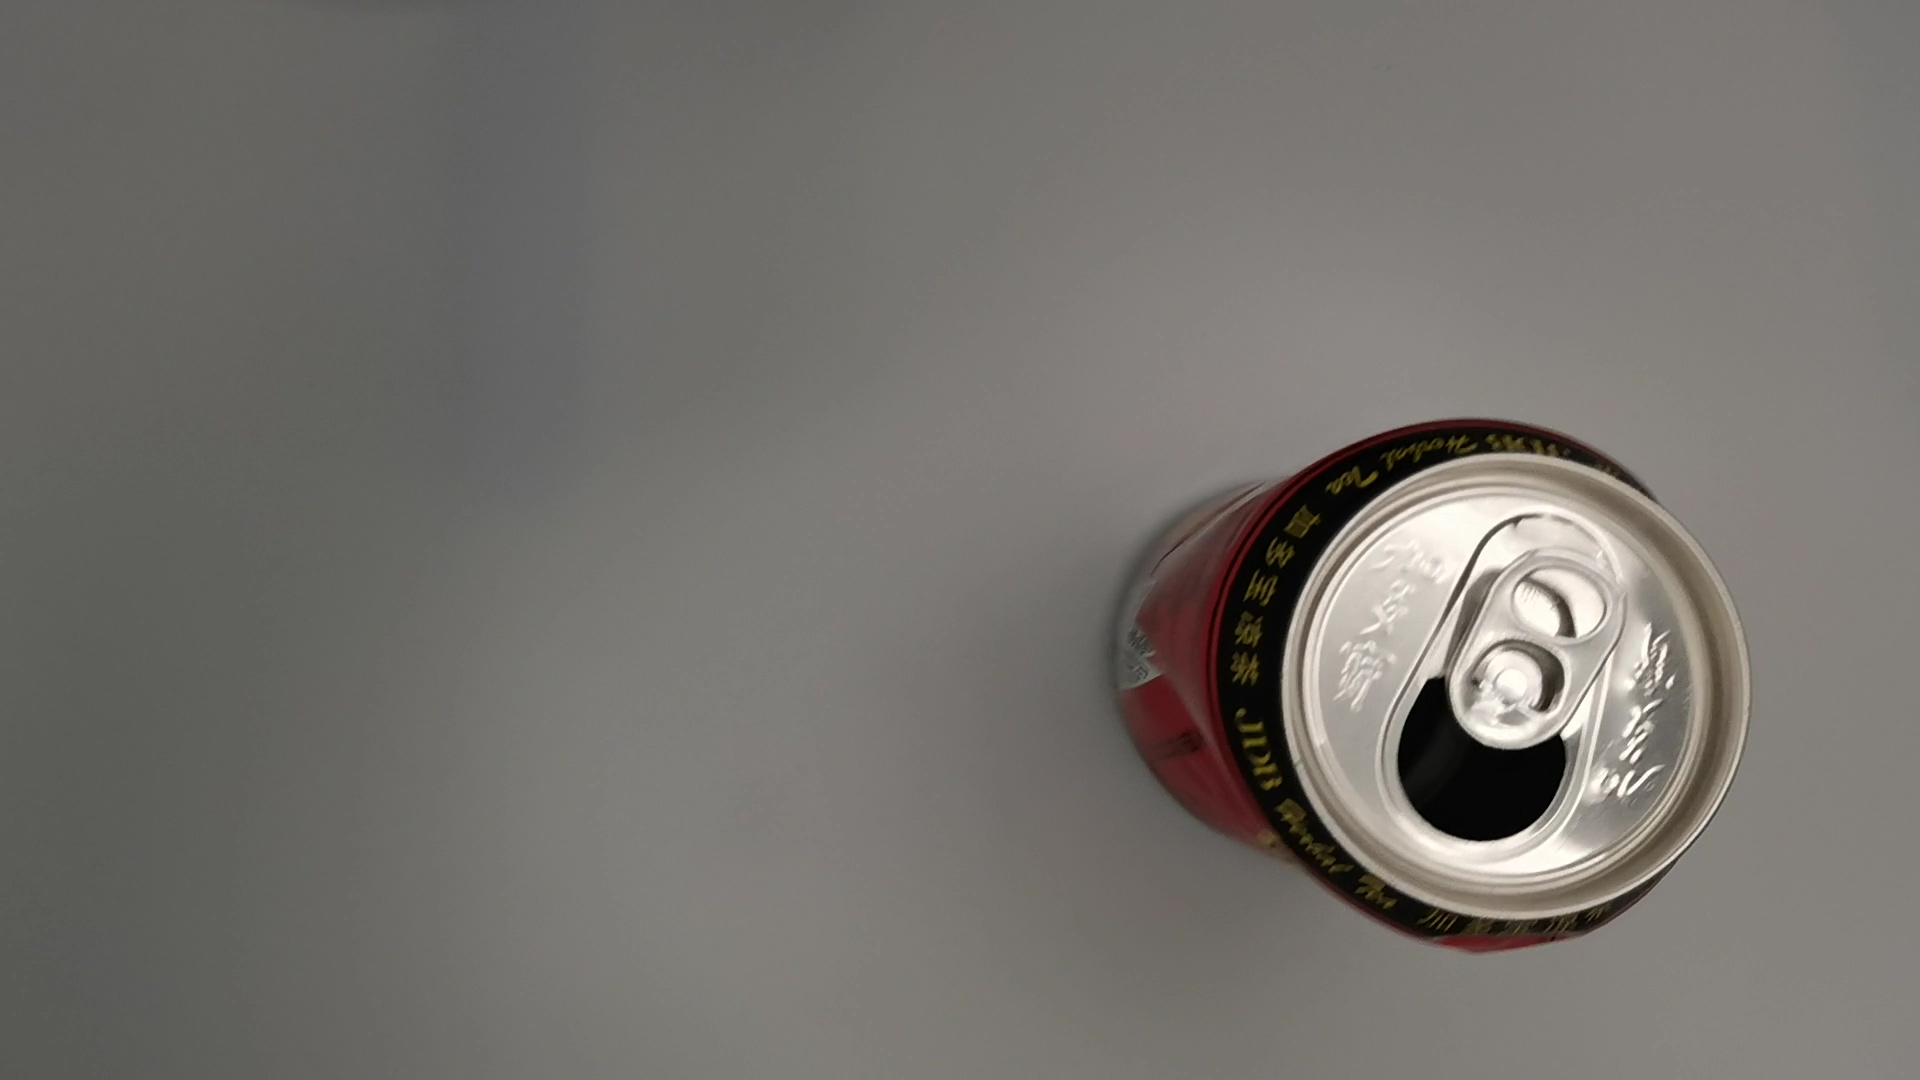can: (1091, 405, 1755, 972)
